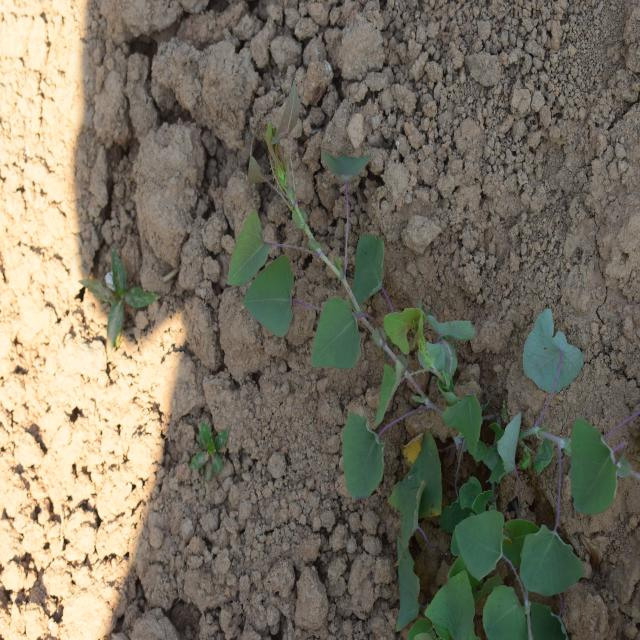Asiatic_Smartweed: (225, 98, 388, 355), (436, 506, 588, 633), (343, 381, 461, 535), (569, 416, 631, 523)
